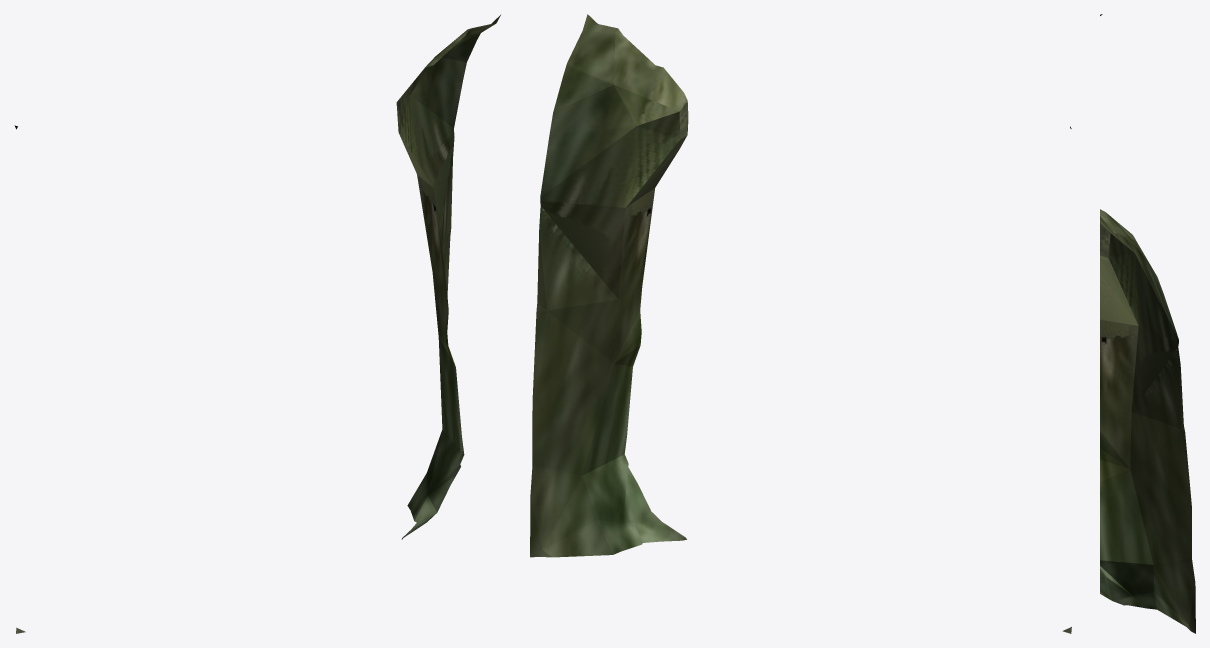
3 renders of one model, left to right at view 1: azimuth 30°, elevation 25°; view 2: azimuth 150°, elevation 25°; view 3: azimuth 270°, elevation 25°, orthographic. The views are drawn at different scales.
Bounding box in the file's own units: 2.95 × 2.95 × 0.6068.
Materials: 1 (1 with a texture image).
